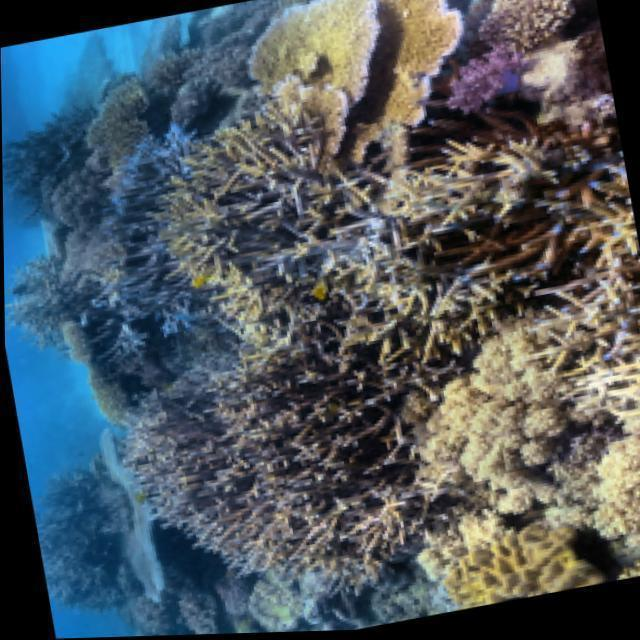Dead Coral: (97, 301, 439, 628), (105, 55, 388, 378), (363, 106, 573, 279)
